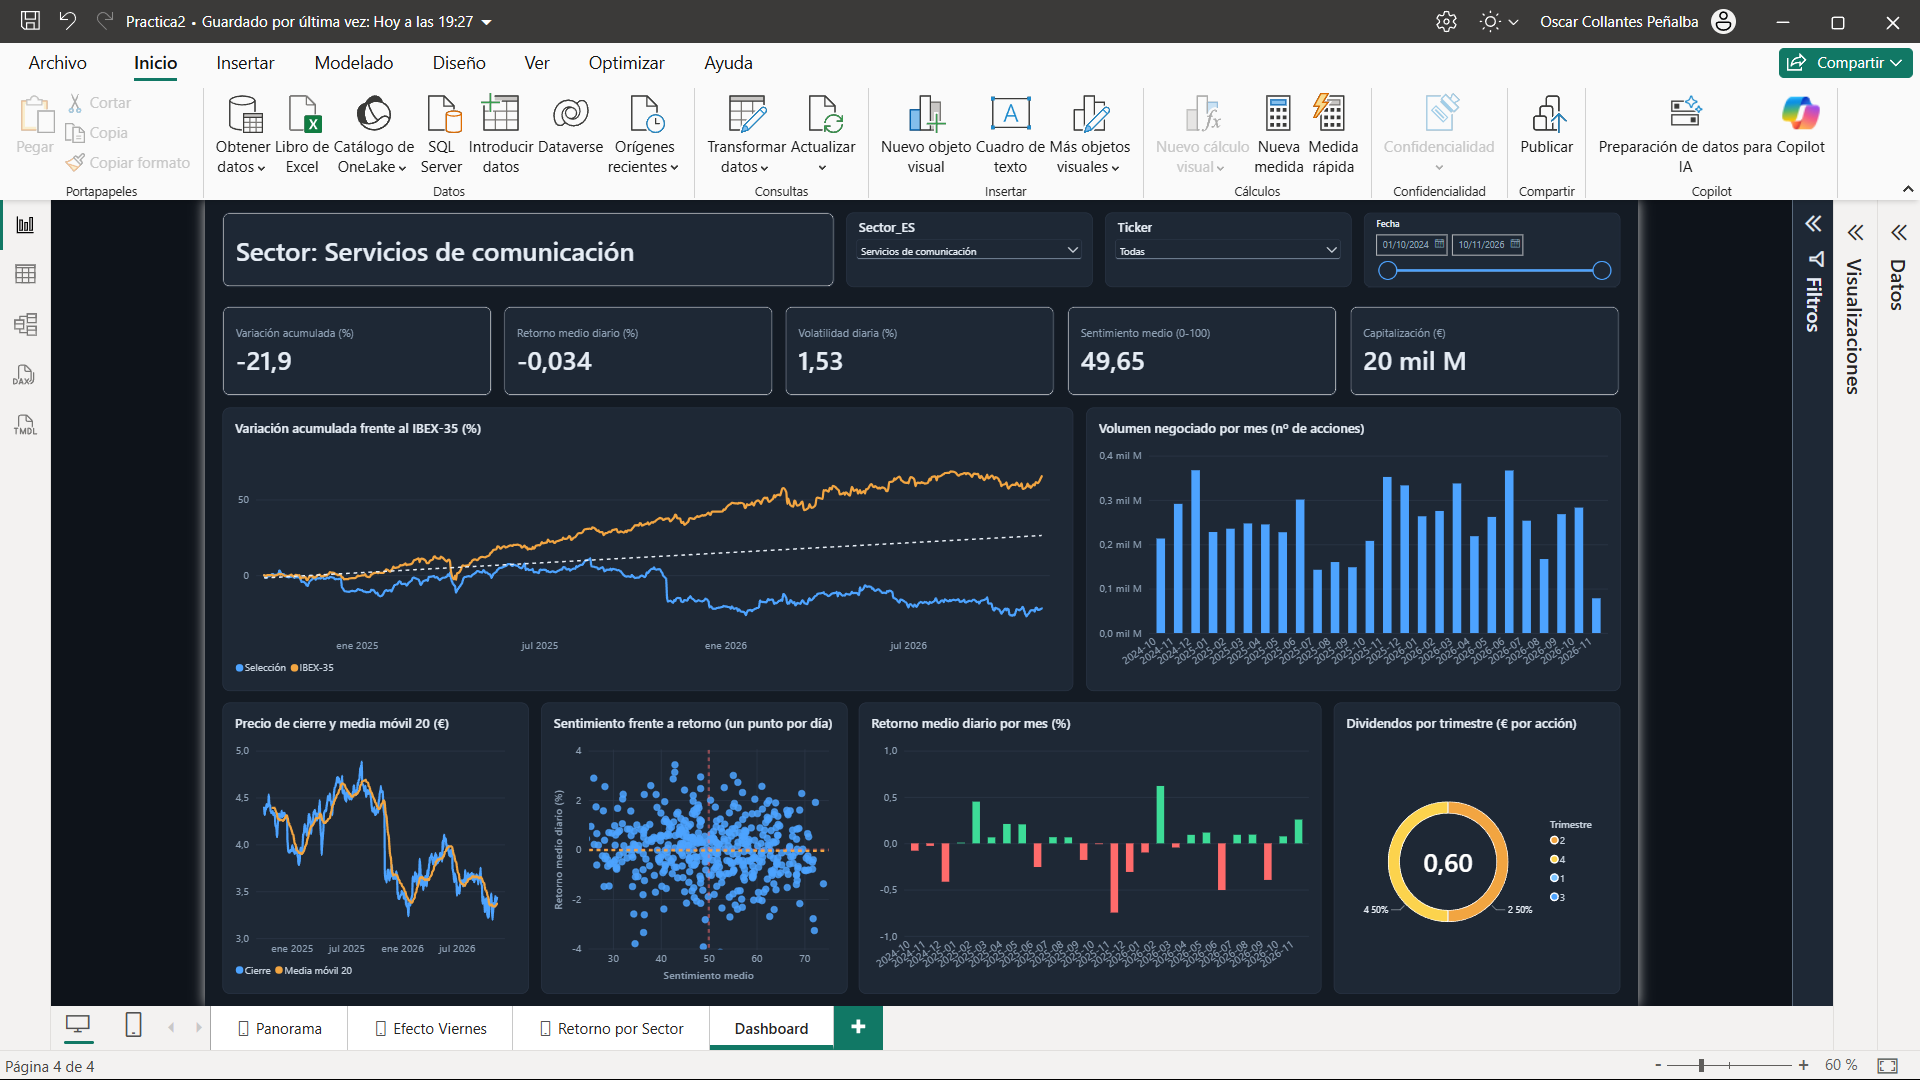

This screenshot's page, from the dashboard's own definition file:
{"tool":"powerbi","page":{"name":"Dashboard","canvas":[1920,1080],"ordinal":3},"visuals":[{"type":"slicer","fields":{"Values":["Empresa.Sector_ES"]},"box":[753.5,31.4,280.8,68],"z":0},{"type":"slicer","fields":{"Values":["Empresa.Ticker"]},"box":[1055.2,26.2,280.8,80.2],"z":1000},{"type":"slicer","fields":{"Values":["Fecha.Fecha"]},"box":[1360.5,19.2,280.8,95.9],"z":2000},{"type":"cardVisual","fields":{"Data":["Hechos.Variacion Acumulada"]},"box":[36.6,115.1,218,174.4],"z":3000},{"type":"cardVisual","fields":{"Data":["Hechos.Retorno Medio Diario"]},"box":[375,115.1,218,174.4],"z":4000},{"type":"cardVisual","fields":{"Data":["Hechos.Volatilidad Diaria"]},"box":[741.3,115.1,218,174.4],"z":5000},{"type":"cardVisual","fields":{"Data":["Hechos.Sentimiento Medio"]},"box":[1088.4,115.1,218,174.4],"z":6000},{"type":"cardVisual","fields":{"Data":["Hechos.Capitalizacion Total"]},"box":[1447.7,115.1,218,174.4],"z":7000},{"type":"lineChart","fields":{"Category":["Fecha.Fecha"],"Y":["Hechos.Var Acum Seleccion","Hechos.Var Acum IBEX"]},"box":[43.6,314,1058.7,376.7],"z":8000},{"type":"clusteredColumnChart","fields":{"Category":["Fecha.AnioMes"],"Y":["Sum(Hechos.Volume)"]},"box":[1133.7,314,736,376.7],"z":9000},{"type":"lineChart","fields":{"Category":["Fecha.Fecha"],"Y":["Avg(Hechos.Close)","Avg(Hechos.Media_Movil_20)"]},"box":[66.3,711.6,395.9,322.7],"z":10000},{"type":"scatterChart","fields":{"Category":["Fecha.Fecha"],"X":["Hechos.Sentimiento Medio"],"Y":["Hechos.Retorno Medio Diario"]},"box":[462.2,711.6,444.8,322.7],"z":11000},{"type":"clusteredColumnChart","fields":{"Category":["Fecha.AnioMes"],"Y":["Hechos.Retorno Medio Diario"]},"box":[907,711.6,610.5,322.7],"z":12000},{"type":"donutChart","fields":{"Category":["Fecha.Trimestre"],"Y":["Sum(Hechos.Dividends)"]},"box":[1517.4,711.6,385.5,322.7],"z":13000},{"type":"cardVisual","fields":{"Data":["Hechos.Titulo Dashboard"]},"box":[66.3,19.2,556.4,75],"z":13001}]}

Visuals, with their boxes on the page's 1920x1080 design canvas (x1, y1, x2, y2). These are canvas units, not pixel positions in the 1920x1080 screenshot, which may show the page scaled, cropped or inside an application window:
slicer - Empresa.Sector_ES: [754,31,1034,99]
slicer - Empresa.Ticker: [1055,26,1336,106]
slicer - Fecha.Fecha: [1360,19,1641,115]
cardVisual - Hechos.Variacion Acumulada: [37,115,255,290]
cardVisual - Hechos.Retorno Medio Diario: [375,115,593,290]
cardVisual - Hechos.Volatilidad Diaria: [741,115,959,290]
cardVisual - Hechos.Sentimiento Medio: [1088,115,1306,290]
cardVisual - Hechos.Capitalizacion Total: [1448,115,1666,290]
lineChart - Fecha.Fecha x Hechos.Var Acum Seleccion: [44,314,1102,691]
clusteredColumnChart - Fecha.AnioMes x Sum(Hechos.Volume): [1134,314,1870,691]
lineChart - Fecha.Fecha x Avg(Hechos.Close): [66,712,462,1034]
scatterChart - Fecha.Fecha x Hechos.Sentimiento Medio: [462,712,907,1034]
clusteredColumnChart - Fecha.AnioMes x Hechos.Retorno Medio Diario: [907,712,1518,1034]
donutChart - Fecha.Trimestre x Sum(Hechos.Dividends): [1517,712,1903,1034]
cardVisual - Hechos.Titulo Dashboard: [66,19,623,94]
